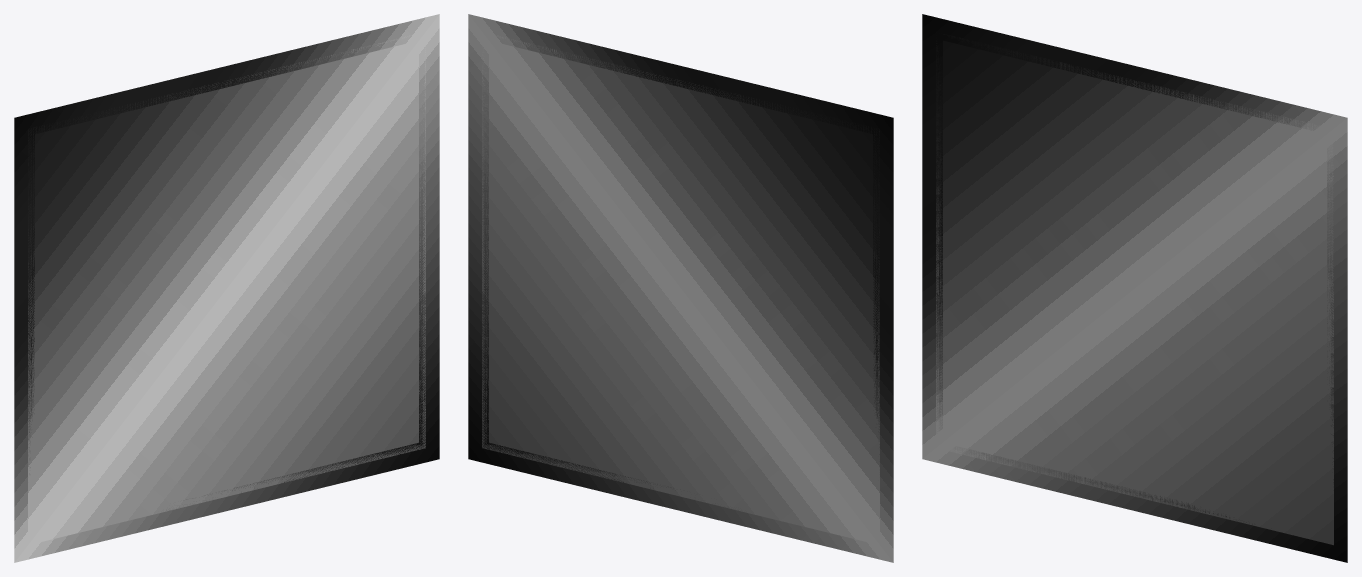
The model's file is eff_ListIconLight02.fbx.
The picture shows the model from 3 angles, left to right: view 1: azimuth 30°, elevation 25°; view 2: azimuth 150°, elevation 25°; view 3: azimuth 330°, elevation 25°; orthographic projection.
Parts seen in each view (by area): view 1: eff_ListIconLight02_msh; view 2: eff_ListIconLight02_msh; view 3: eff_ListIconLight02_msh.
Part boxes in pixels (bbox=[...]): eff_ListIconLight02_msh: bbox=[14, 14, 439, 562]; eff_ListIconLight02_msh: bbox=[468, 14, 893, 562]; eff_ListIconLight02_msh: bbox=[922, 14, 1347, 562].
Bounding box in the file's own units: 124 × 124 × 1.01e-13.
